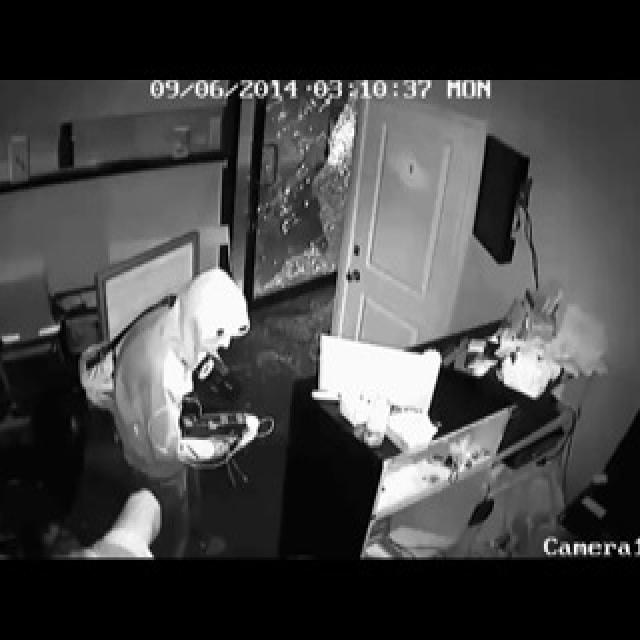thief: (116, 266, 271, 504)
